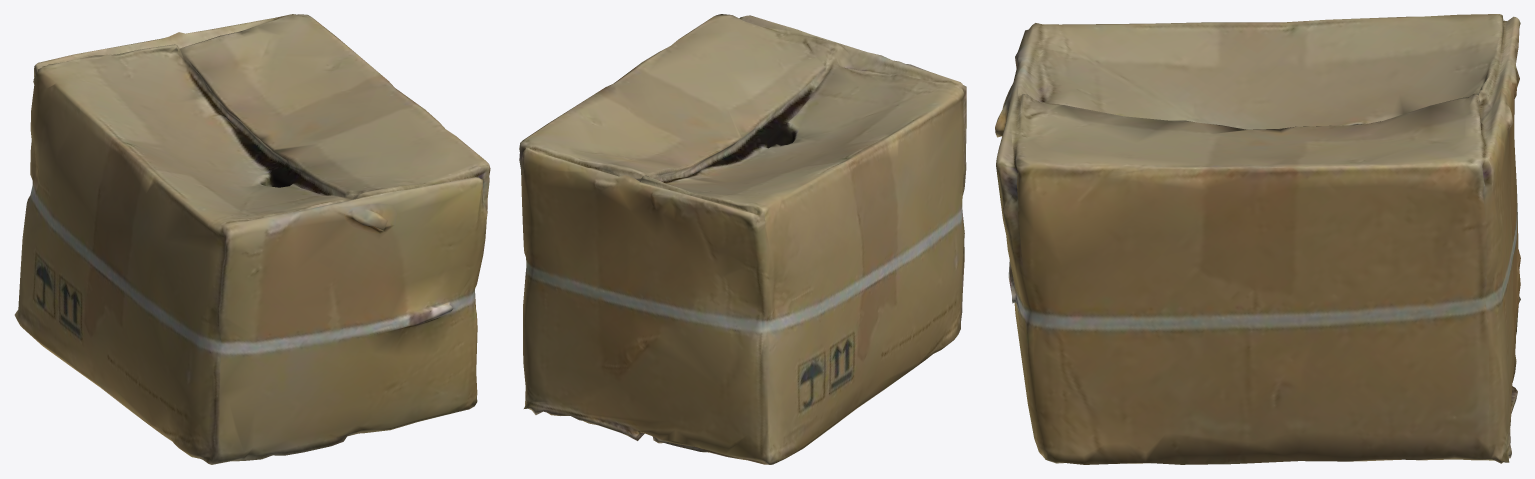
Rendered from cardboard_box_01.glb.
The picture shows the model from 3 angles, left to right: view 1: azimuth 30°, elevation 25°; view 2: azimuth 150°, elevation 25°; view 3: azimuth 270°, elevation 25°; orthographic projection. The views are drawn at different scales.
Parts seen in each view (by area): view 1: cardboard_box_01; view 2: cardboard_box_01; view 3: cardboard_box_01.
Boxes of the visible parts, box(x1,y1,x2,y2) form: cardboard_box_01: box(14, 14, 490, 464); cardboard_box_01: box(519, 14, 966, 464); cardboard_box_01: box(995, 14, 1520, 464).
Bounding box in the file's own units: 0.3868 × 0.3418 × 0.5159.
1 material, 1 textured.
